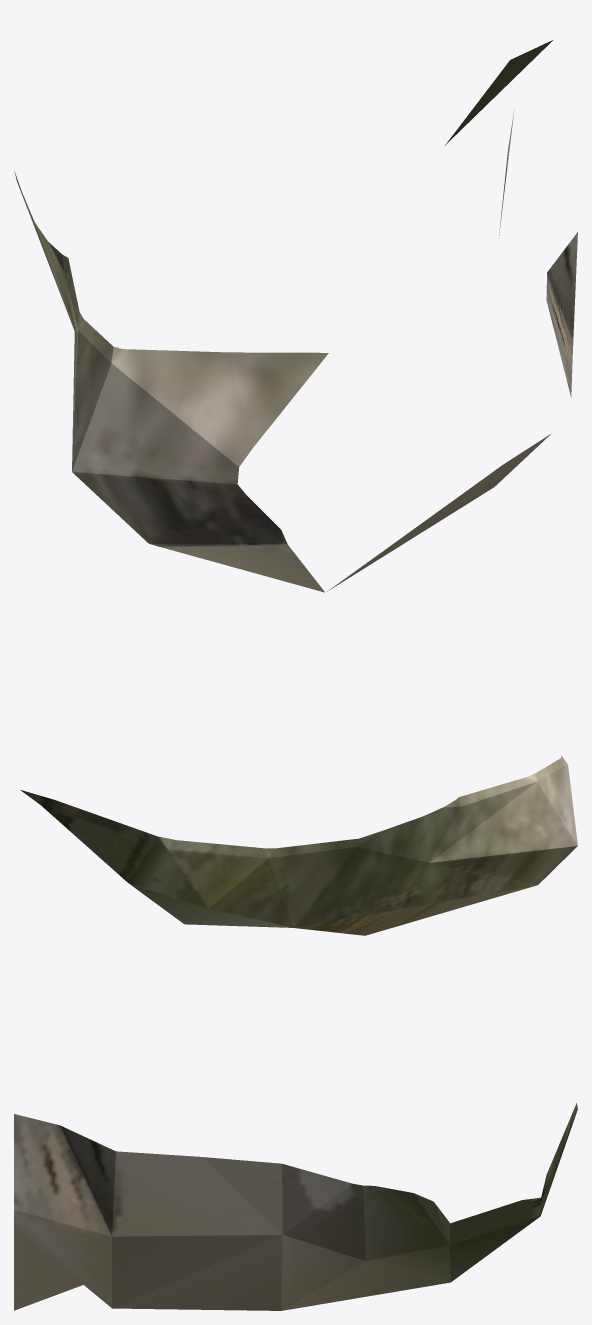
3 renders of one model, top to bottom at view 1: azimuth 30°, elevation 25°; view 2: azimuth 150°, elevation 25°; view 3: azimuth 270°, elevation 25°, orthographic. The views are drawn at different scales.
Bounding box in the file's own units: 1.16 × 0.4821 × 1.01.
1 material, 1 textured.
